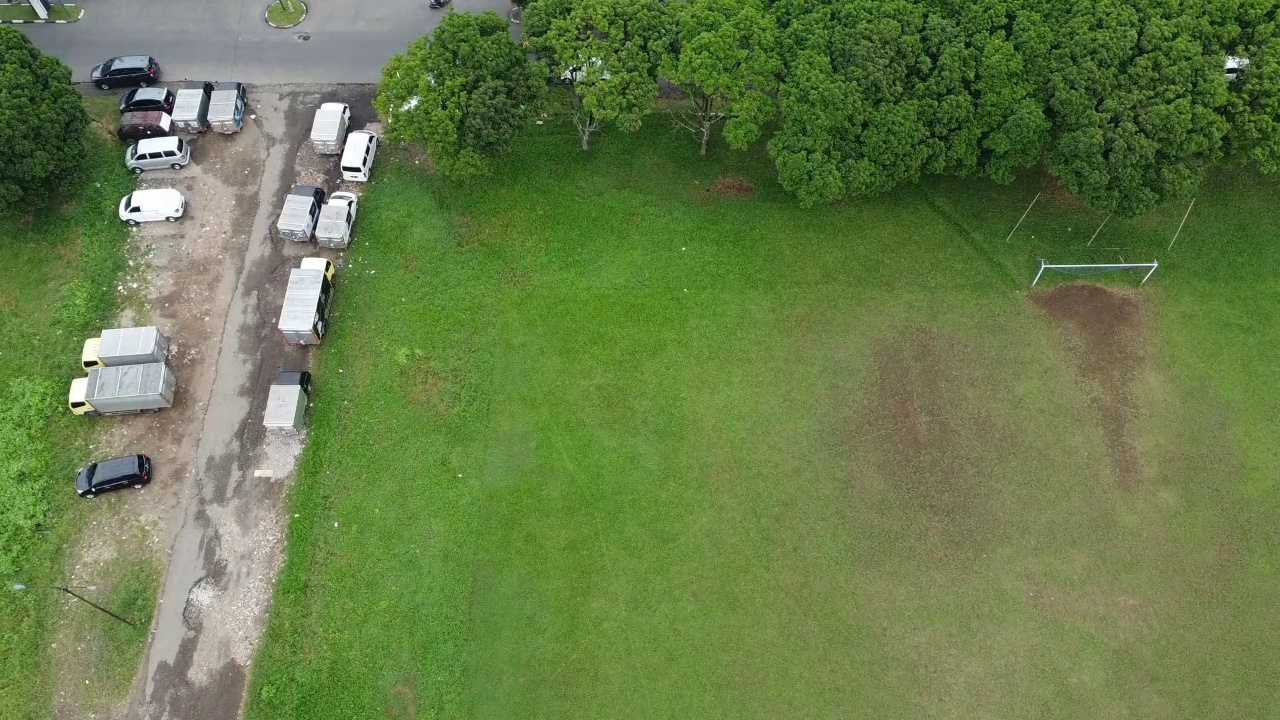mobil: (71, 449, 163, 499), (82, 47, 166, 90), (113, 185, 195, 227), (115, 136, 197, 172), (340, 123, 382, 185), (115, 104, 177, 141), (113, 84, 177, 117)
